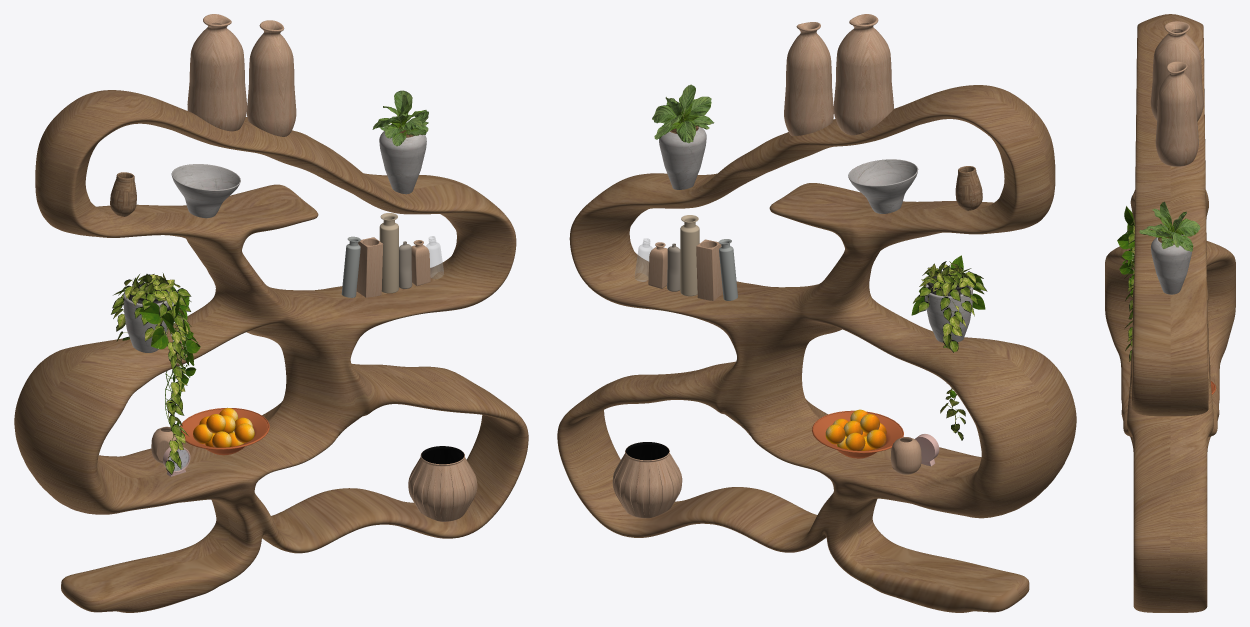
Rendered from WoodBookcase.glb.
3 views of the same model, side by side, from view 1: azimuth 30°, elevation 25°; view 2: azimuth 150°, elevation 25°; view 3: azimuth 270°, elevation 25° (orthographic). The views are drawn at different scales.
Visible parts, largest first — view 1: Cube, Cylinder.009, Plant1, Cylinder.003, Cylinder, Plant2, Cylinder.001, Cylinder.007, Cylinder.008; view 2: Cube, Cylinder.009, Cylinder.003, Plant1, Cylinder, Plant2, Cylinder.001, Cylinder.007, Cylinder.008, Cylinder.002; view 3: Cube, Cylinder.009, Plant2, Plant1.
Boxes of the visible parts, x1,y1,x2,y2 form: Cube: [14, 90, 528, 612]; Cylinder.009: [187, 14, 296, 136]; Plant1: [111, 273, 200, 474]; Cylinder.003: [341, 213, 443, 297]; Cylinder: [408, 446, 477, 521]; Plant2: [372, 90, 428, 194]; Cylinder.001: [180, 407, 269, 455]; Cylinder.007: [171, 164, 240, 218]; Cylinder.008: [110, 172, 136, 216]; Cube: [557, 85, 1076, 612]; Cylinder.009: [784, 14, 893, 136]; Cylinder.003: [635, 215, 737, 300]; Plant1: [911, 255, 987, 440]; Cylinder: [612, 442, 682, 518]; Plant2: [652, 84, 714, 189]; Cylinder.001: [812, 409, 903, 458]; Cylinder.007: [848, 159, 918, 213]; Cylinder.008: [955, 166, 982, 210]; Cylinder.002: [890, 437, 921, 474]; Cube: [1105, 14, 1235, 612]; Cylinder.009: [1150, 21, 1203, 166]; Plant2: [1139, 201, 1200, 294]; Plant1: [1117, 206, 1134, 361].
Size of the model in its own units: 2.22 by 2.48 by 0.6015.
21 materials, 15 textured.
